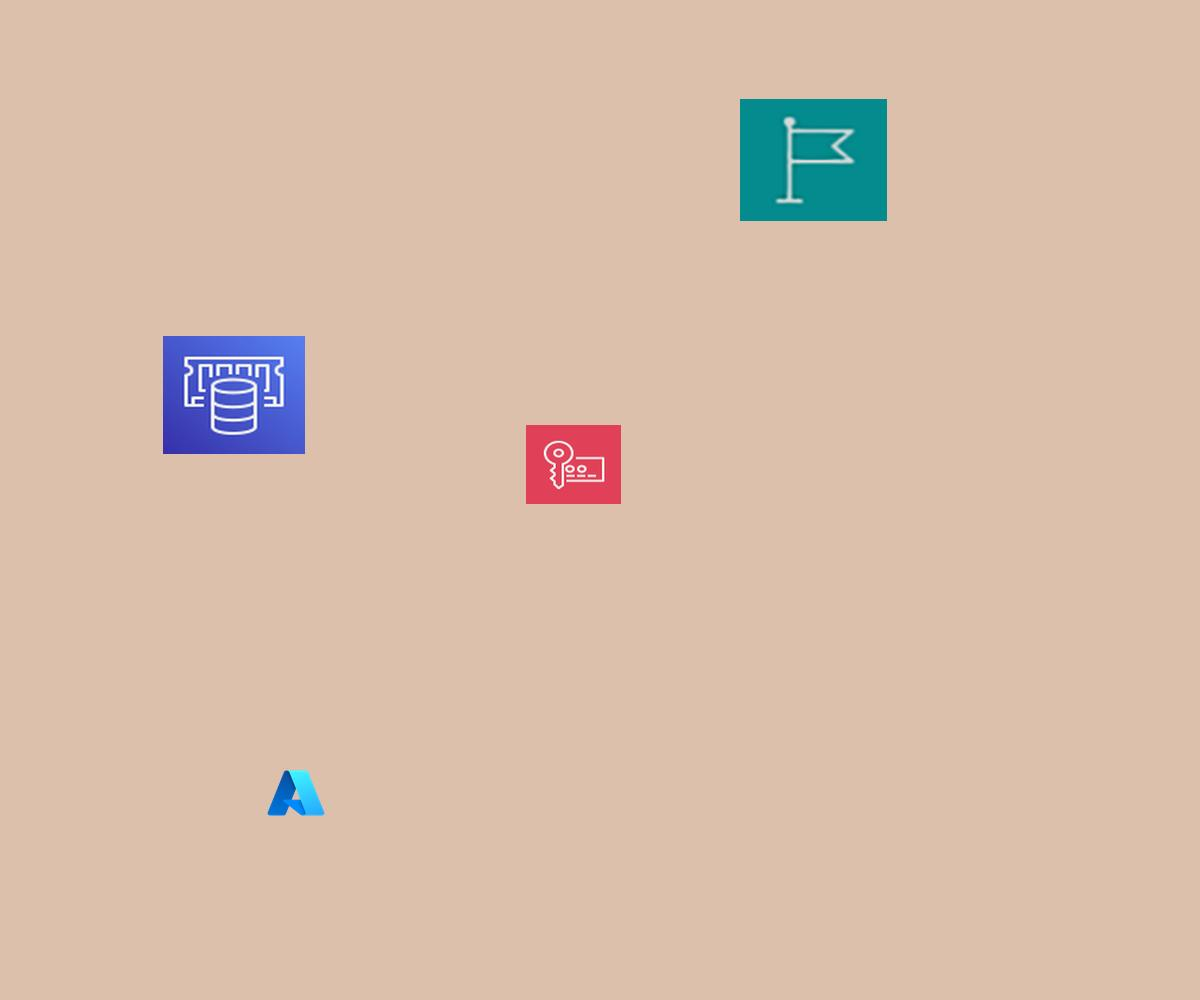AWS-ElastiCache: (163, 336, 305, 454)
AWS-Key-Management-Service: (526, 425, 621, 504)
AWS-Region: (740, 99, 887, 221)
Azure_services: (265, 767, 327, 819)
